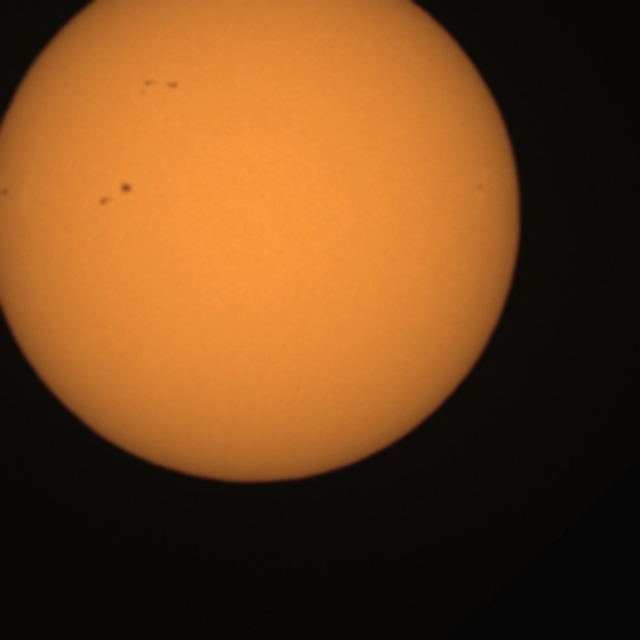sunspot: (96, 181, 134, 208), (138, 76, 180, 98), (118, 180, 134, 196), (97, 194, 115, 208), (0, 185, 10, 200), (475, 181, 485, 193)
